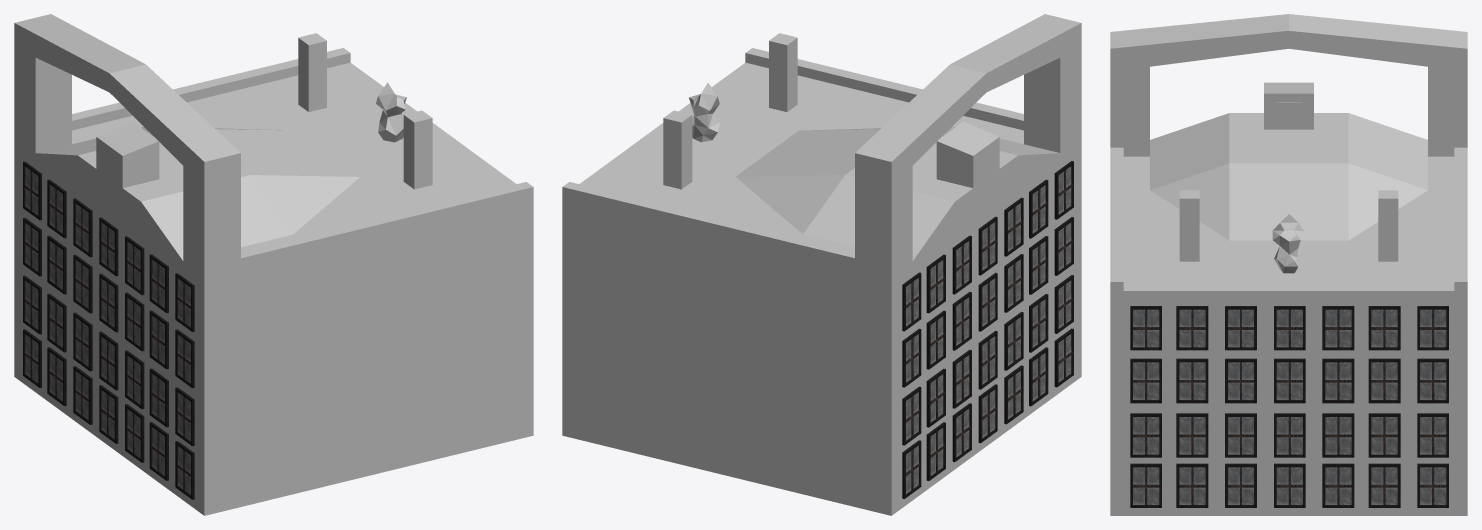
Rendered from ENV_FinalArchBuilding.fbx.
3 views of the same model, side by side, from view 1: azimuth 30°, elevation 25°; view 2: azimuth 150°, elevation 25°; view 3: azimuth 270°, elevation 25° (orthographic). The views are drawn at different scales.
Parts seen in each view (by area): view 1: ENV_ArchBuilding, ENV_ArchWindows2; view 2: ENV_ArchBuilding, ENV_ArchWindows2; view 3: ENV_ArchBuilding, ENV_ArchWindows2.
Part boxes in pixels (x1,y1,x2,y2): ENV_ArchBuilding: [14, 14, 533, 515]; ENV_ArchWindows2: [23, 161, 194, 499]; ENV_ArchBuilding: [562, 14, 1081, 515]; ENV_ArchWindows2: [902, 161, 1073, 498]; ENV_ArchBuilding: [1110, 14, 1467, 515]; ENV_ArchWindows2: [1130, 306, 1448, 507].
Size of the model in its own units: 22.71 by 24.27 by 22.41.
